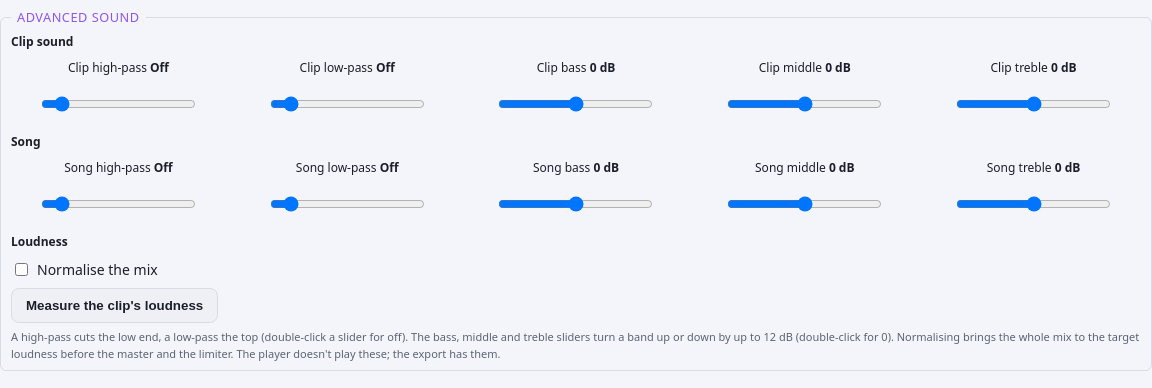
the advanced sound box › says when it could not measure
Click the button "Measure the clip's loudness".
click(115, 306)  # box [11, 288, 218, 323]
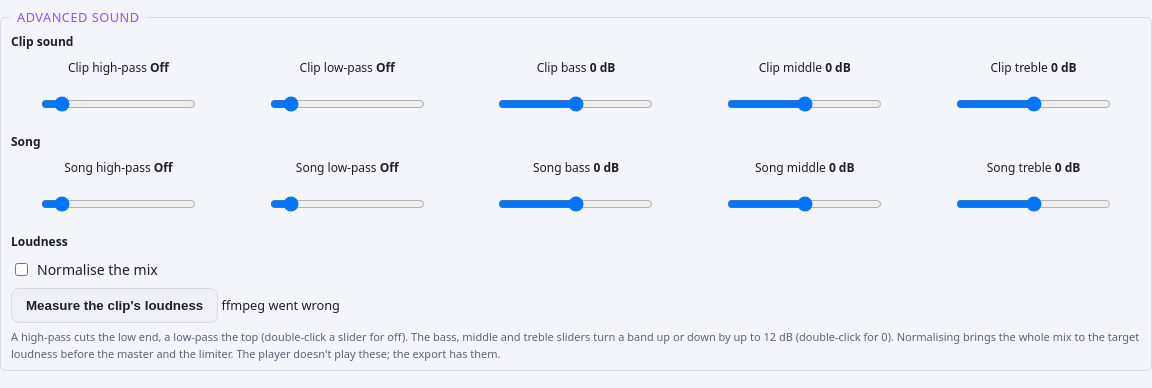
Check: the message reads "ffmpeg went wrong", box [222, 296, 340, 314]
